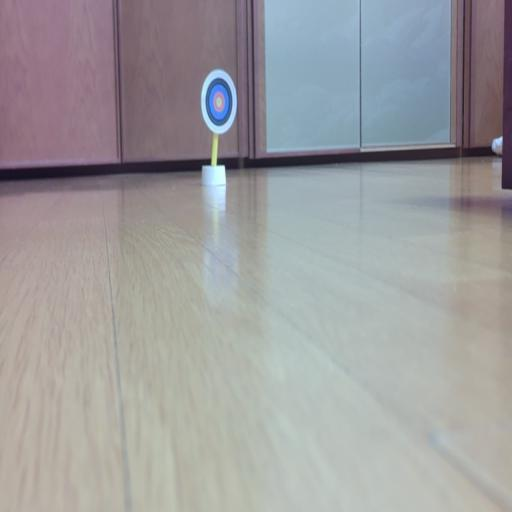target: (201, 69, 237, 134)
